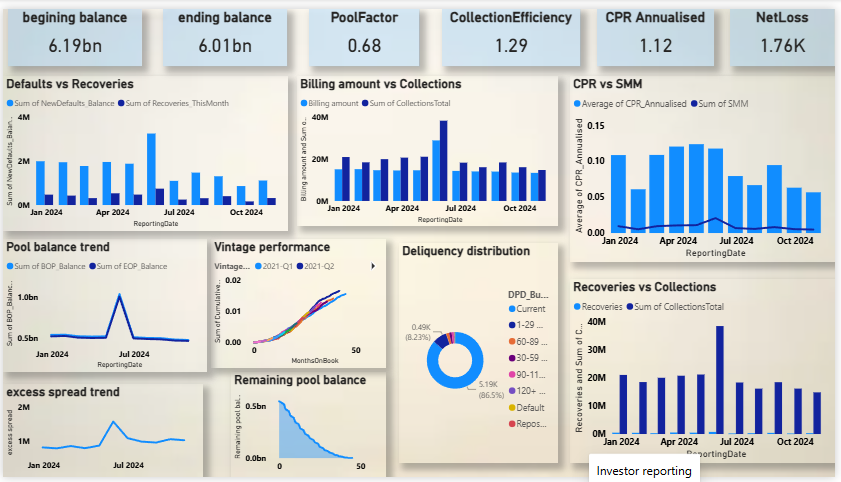

The page's visual inventory and layout, read from the dashboard file:
{"tool":"powerbi","page":{"name":"Investor reporting","canvas":[1280,720],"ordinal":8},"visuals":[{"type":"kpi","title":"begining balance","fields":{"Indicator":["dynamicloss.begining portfolio balance"],"TrendLine":["loans.LoanID"]},"box":[7.8,0,206.2,87.5],"z":0},{"type":"kpi","title":"ending balance","fields":{"Indicator":["dynamicloss.ending portfolio balance"],"TrendLine":["loans.LoanID"]},"box":[246.9,0,190.6,87.5],"z":1000},{"type":"kpi","title":" CollectionEfficiency ","fields":{"Indicator":["Avg(dynamicloss.CollectionEfficiency)"],"TrendLine":["loans.LoanID"]},"box":[675,0,212.5,87.5],"z":2000},{"type":"kpi","title":" PoolFactor ","fields":{"Indicator":["Avg(staticpool.PoolFactor)"],"TrendLine":["loans.PoolID"]},"box":[470.3,0,170.3,87.5],"z":3000},{"type":"kpi","title":" CPR Annualised ","fields":{"Indicator":["Sum(dynamicloss.CPR_Annualised)"],"TrendLine":["loans.LoanID"]},"box":[914.1,0,179.7,87.5],"z":4000},{"type":"kpi","title":" NetLoss ","fields":{"Indicator":["Avg(loans.NetLoss)"],"TrendLine":["loans.PoolID"]},"box":[1118.8,0,160.9,87.5],"z":5000},{"type":"lineChart","title":"Pool balance trend","fields":{"Category":["dynamicloss.ReportingDate"],"Y":["Sum(dynamicloss.BOP_Balance)","Sum(dynamicloss.EOP_Balance)"]},"box":[0,353.1,314.1,204.7],"z":6000},{"type":"clusteredColumnChart","title":"Billing amount vs Collections","fields":{"Y":["dynamicloss.Billing amount","Sum(dynamicloss.CollectionsTotal)"],"Category":["dynamicloss.ReportingDate"]},"box":[451.6,103.1,401.6,231.2],"z":7000},{"type":"clusteredColumnChart","title":"Recoveries vs  Collections","fields":{"Y":["dynamicloss.Recoveries","Sum(dynamicloss.CollectionsTotal)"],"Category":["dynamicloss.ReportingDate"]},"box":[871.9,415.6,407.8,282.8],"z":8000},{"type":"lineClusteredColumnComboChart","title":"CPR vs SMM ","fields":{"Category":["dynamicloss.ReportingDate"],"Y2":["Sum(dynamicloss.SMM)"],"Y":["Avg(dynamicloss.CPR_Annualised)"]},"box":[871.9,103.1,407.8,285.9],"z":9000},{"type":"lineChart","title":"excess spread trend","fields":{"Y":["dynamicloss.excess spread"],"Category":["dynamicloss.ReportingDate"]},"box":[0,576.6,307.8,143.8],"z":10000},{"type":"lineChart","title":"Vintage performance","fields":{"Y":["Sum(staticpool.CumulativeNetLossRate)"],"Category":["staticpool.MonthsOnBook"],"Series":["staticpool.VintageID"]},"box":[320.3,353.1,268.8,198.4],"z":11000},{"type":"clusteredColumnChart","title":"Defaults vs Recoveries","fields":{"Y":["Sum(dynamicloss.NewDefaults_Balance)","Sum(dynamicloss.Recoveries_ThisMonth)"],"Category":["dynamicloss.ReportingDate"]},"box":[0,103.1,437.5,237.5],"z":12000},{"type":"areaChart","title":"Remaining pool balance ","fields":{"Category":["staticpool.MonthsOnBook"],"Y":["staticpool.Remaining pool balance"]},"box":[350,557.8,239.1,162.5],"z":13000},{"type":"donutChart","title":"Deliquency distribution","fields":{"Category":["dpd.DPD_Bucket"],"Y":["CountNonNull(dpd.LoanID)"]},"box":[609.4,359.4,243.8,339.1],"z":14000}]}

Visuals, with their boxes in screenshot pixels (x1, y1, x2, y2), scaled from the page's 1280x720 canvas onto the 841x482 screenshot:
"begining balance" kpi: box=[5, 0, 141, 59]
"ending balance" kpi: box=[162, 0, 287, 59]
" CollectionEfficiency " kpi: box=[443, 0, 583, 59]
" PoolFactor " kpi: box=[309, 0, 421, 59]
" CPR Annualised " kpi: box=[601, 0, 719, 59]
" NetLoss " kpi: box=[735, 0, 840, 59]
"Pool balance trend" lineChart: box=[0, 236, 206, 373]
"Billing amount vs Collections" clusteredColumnChart: box=[297, 69, 561, 224]
"Recoveries vs  Collections" clusteredColumnChart: box=[573, 278, 840, 468]
"CPR vs SMM " lineClusteredColumnComboChart: box=[573, 69, 840, 260]
"excess spread trend" lineChart: box=[0, 386, 202, 481]
"Vintage performance" lineChart: box=[210, 236, 387, 369]
"Defaults vs Recoveries" clusteredColumnChart: box=[0, 69, 287, 228]
"Remaining pool balance " areaChart: box=[230, 373, 387, 481]
"Deliquency distribution" donutChart: box=[400, 241, 561, 468]
